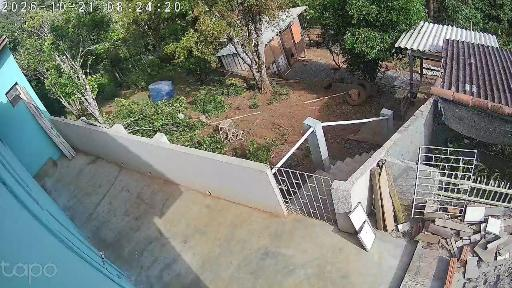frango: (178, 109, 185, 119)
galinha: (323, 82, 333, 92), (198, 115, 207, 122)
